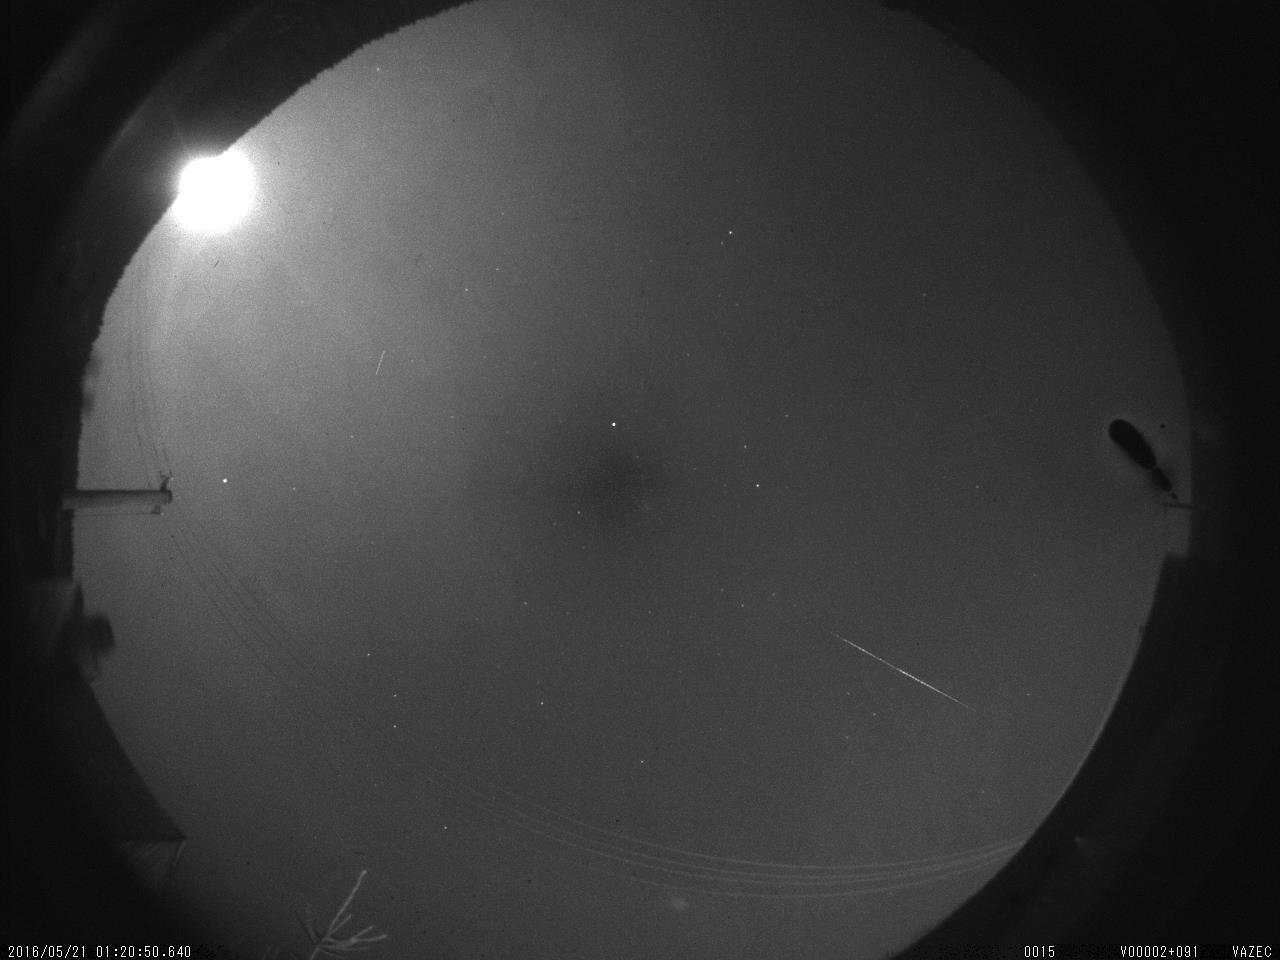Meteor: (831, 628, 977, 711)
